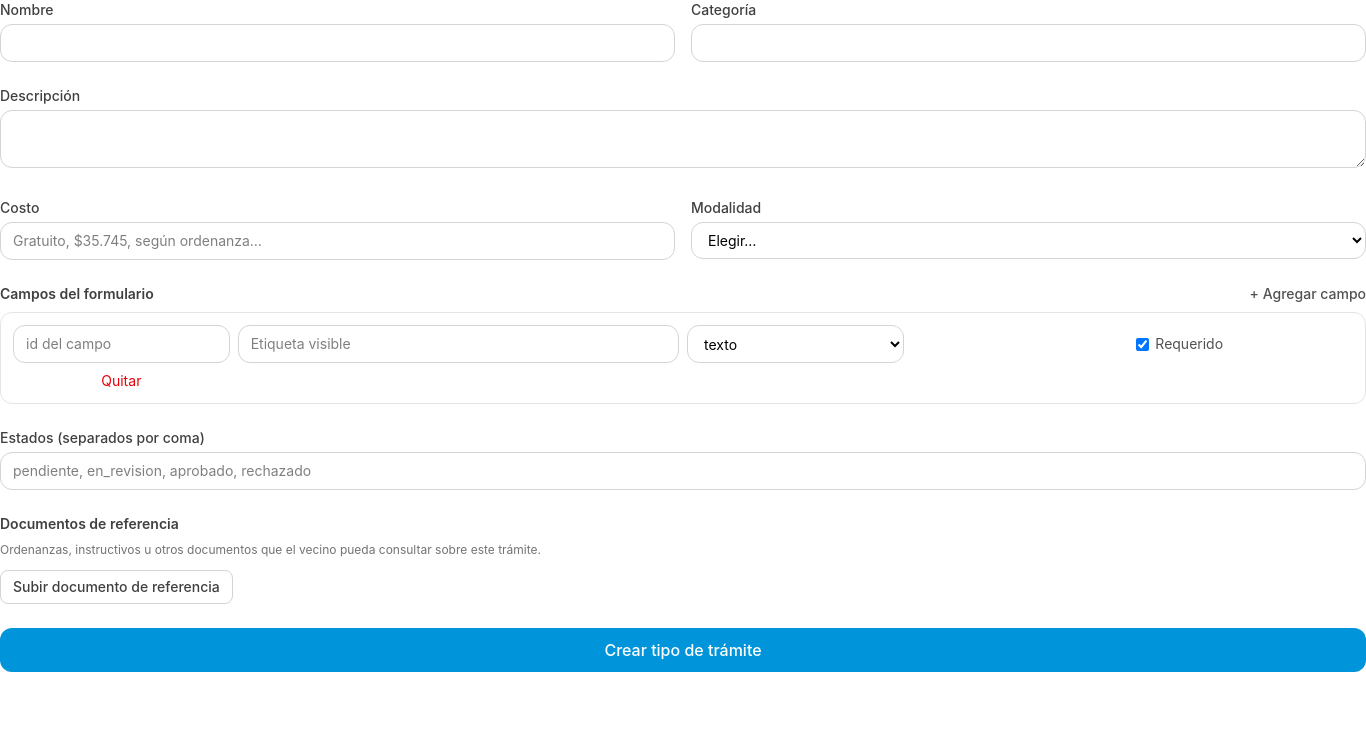
FormularioTipoTramite › arranca con un campo por defecto y permite agregar más
The image size is (1366, 733).
What coordinates should you click on to do the following:
click the button "+ Agregar campo"
I would click on:
 (1308, 294)
Its box is [1250, 284, 1365, 304].
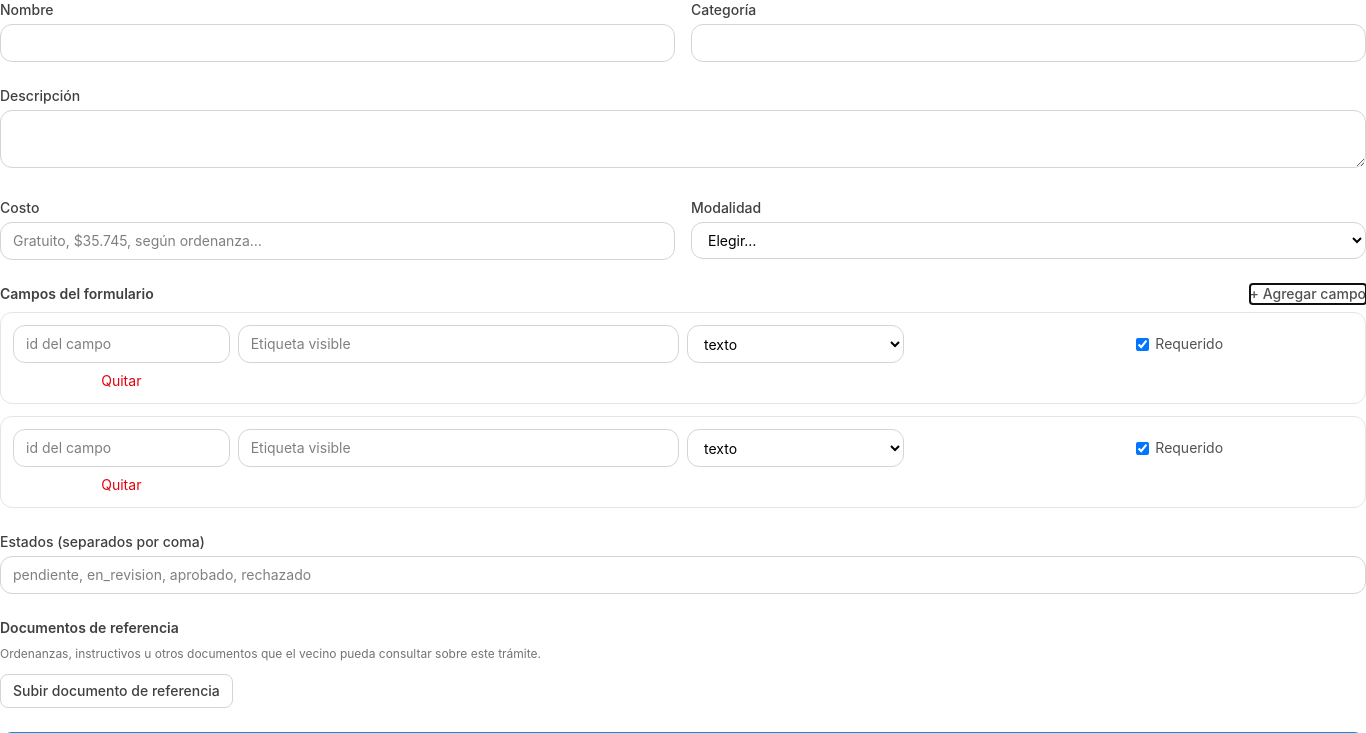
Expected: the number of fields with placeholder "id del campo" is 2, [13, 325, 230, 363]; [13, 429, 230, 467]
